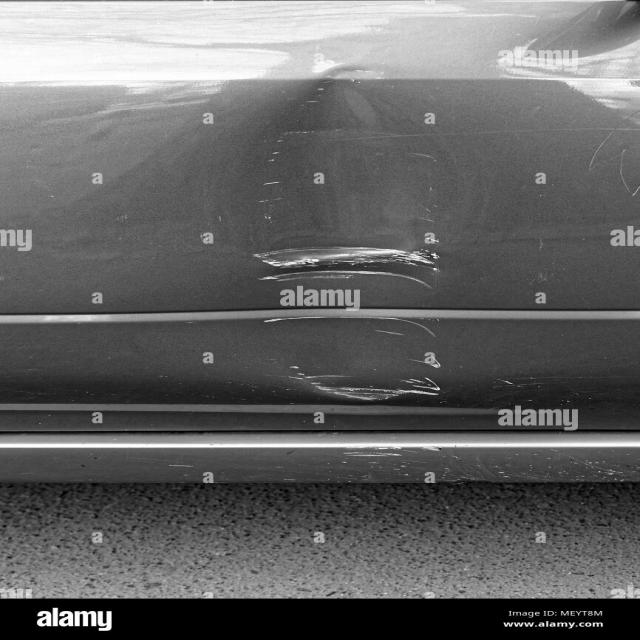dent: (206, 49, 484, 405)
scratch: (254, 65, 391, 221), (164, 440, 640, 484), (251, 243, 445, 289), (287, 365, 444, 401), (261, 314, 443, 339), (492, 377, 544, 390), (415, 199, 441, 225), (407, 356, 442, 368), (407, 152, 439, 164), (371, 329, 410, 337), (423, 235, 447, 244)
